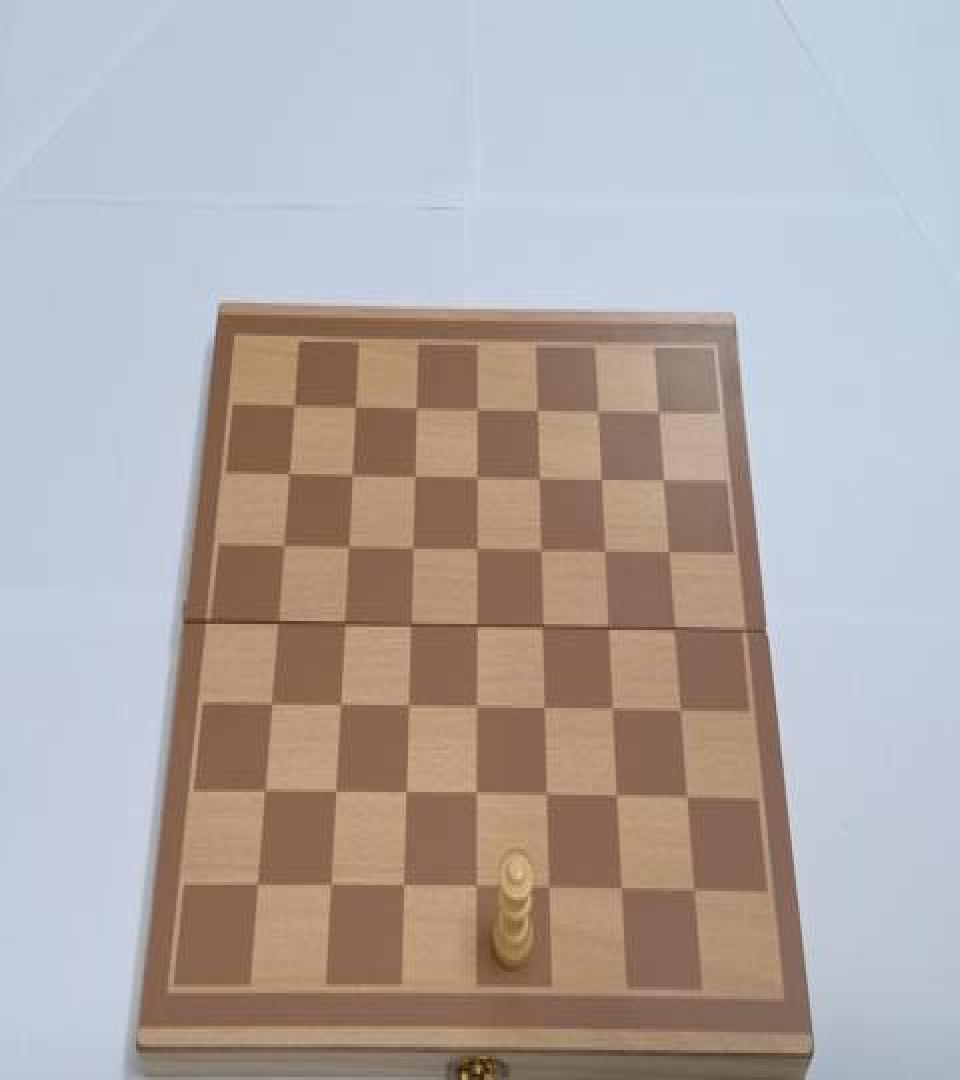xcorner: (345, 394, 363, 422), (406, 394, 424, 422), (399, 694, 417, 722), (591, 466, 609, 494), (284, 393, 302, 420), (279, 462, 297, 489), (273, 534, 291, 561), (268, 610, 286, 637), (262, 693, 280, 720), (255, 780, 273, 807), (249, 873, 267, 900), (341, 462, 359, 489), (334, 612, 352, 639), (330, 693, 348, 720), (326, 780, 344, 807), (322, 873, 340, 900), (395, 874, 413, 901), (466, 396, 484, 423), (466, 465, 484, 492), (467, 537, 485, 564), (467, 696, 485, 723), (467, 783, 485, 810), (468, 874, 486, 901), (527, 397, 545, 424), (529, 465, 547, 492), (531, 538, 549, 565), (533, 615, 551, 642), (535, 696, 553, 723), (538, 783, 556, 810), (540, 876, 558, 903), (587, 397, 605, 424), (595, 538, 613, 565), (599, 615, 617, 642), (608, 785, 626, 812), (613, 876, 631, 903), (648, 399, 666, 426), (653, 468, 671, 495), (659, 540, 677, 567), (665, 617, 683, 644), (678, 785, 696, 812), (338, 536, 356, 562), (404, 464, 422, 490), (402, 536, 420, 562), (401, 614, 419, 640), (397, 782, 415, 808), (467, 614, 485, 640), (603, 698, 621, 724), (671, 698, 689, 724), (686, 878, 704, 904)
